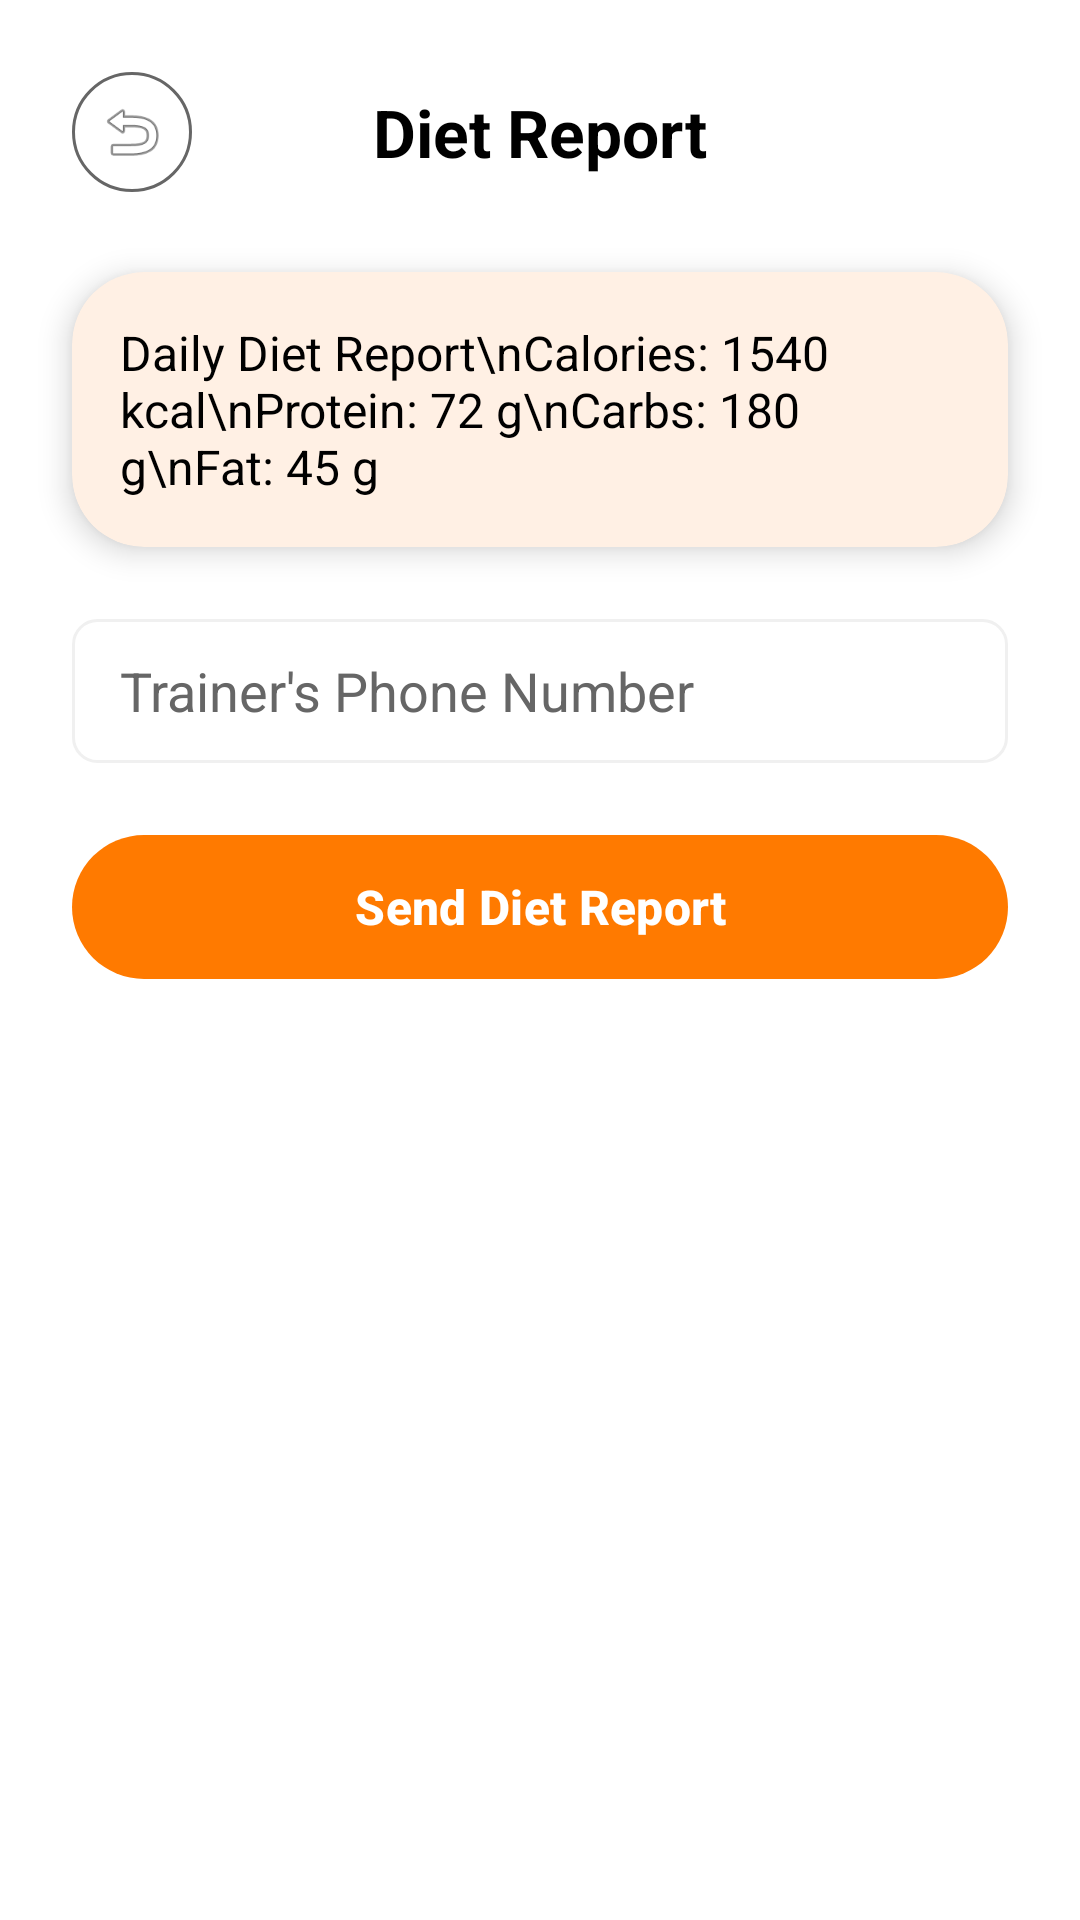

Locate icon controls on the screen. Image size 1080 x 1920, boxes as (x1, y1, x2, y2).
revert: (72, 72, 192, 192)
